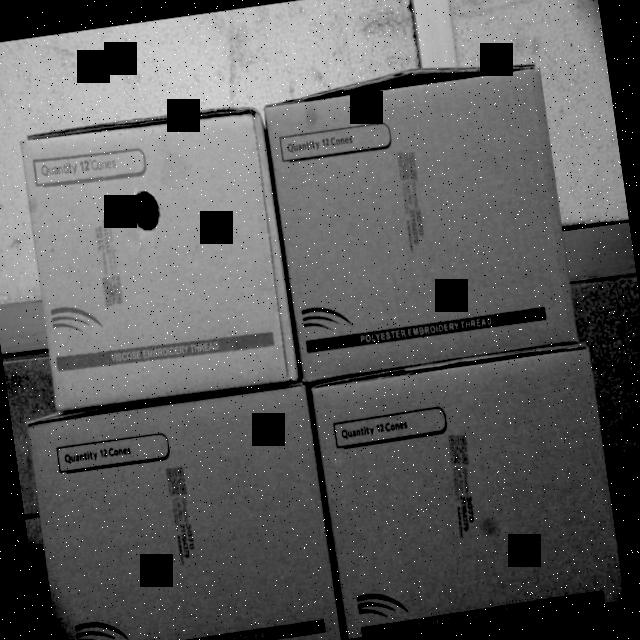box: (265, 62, 584, 386), (311, 350, 627, 638), (18, 105, 302, 417), (25, 380, 343, 640)
